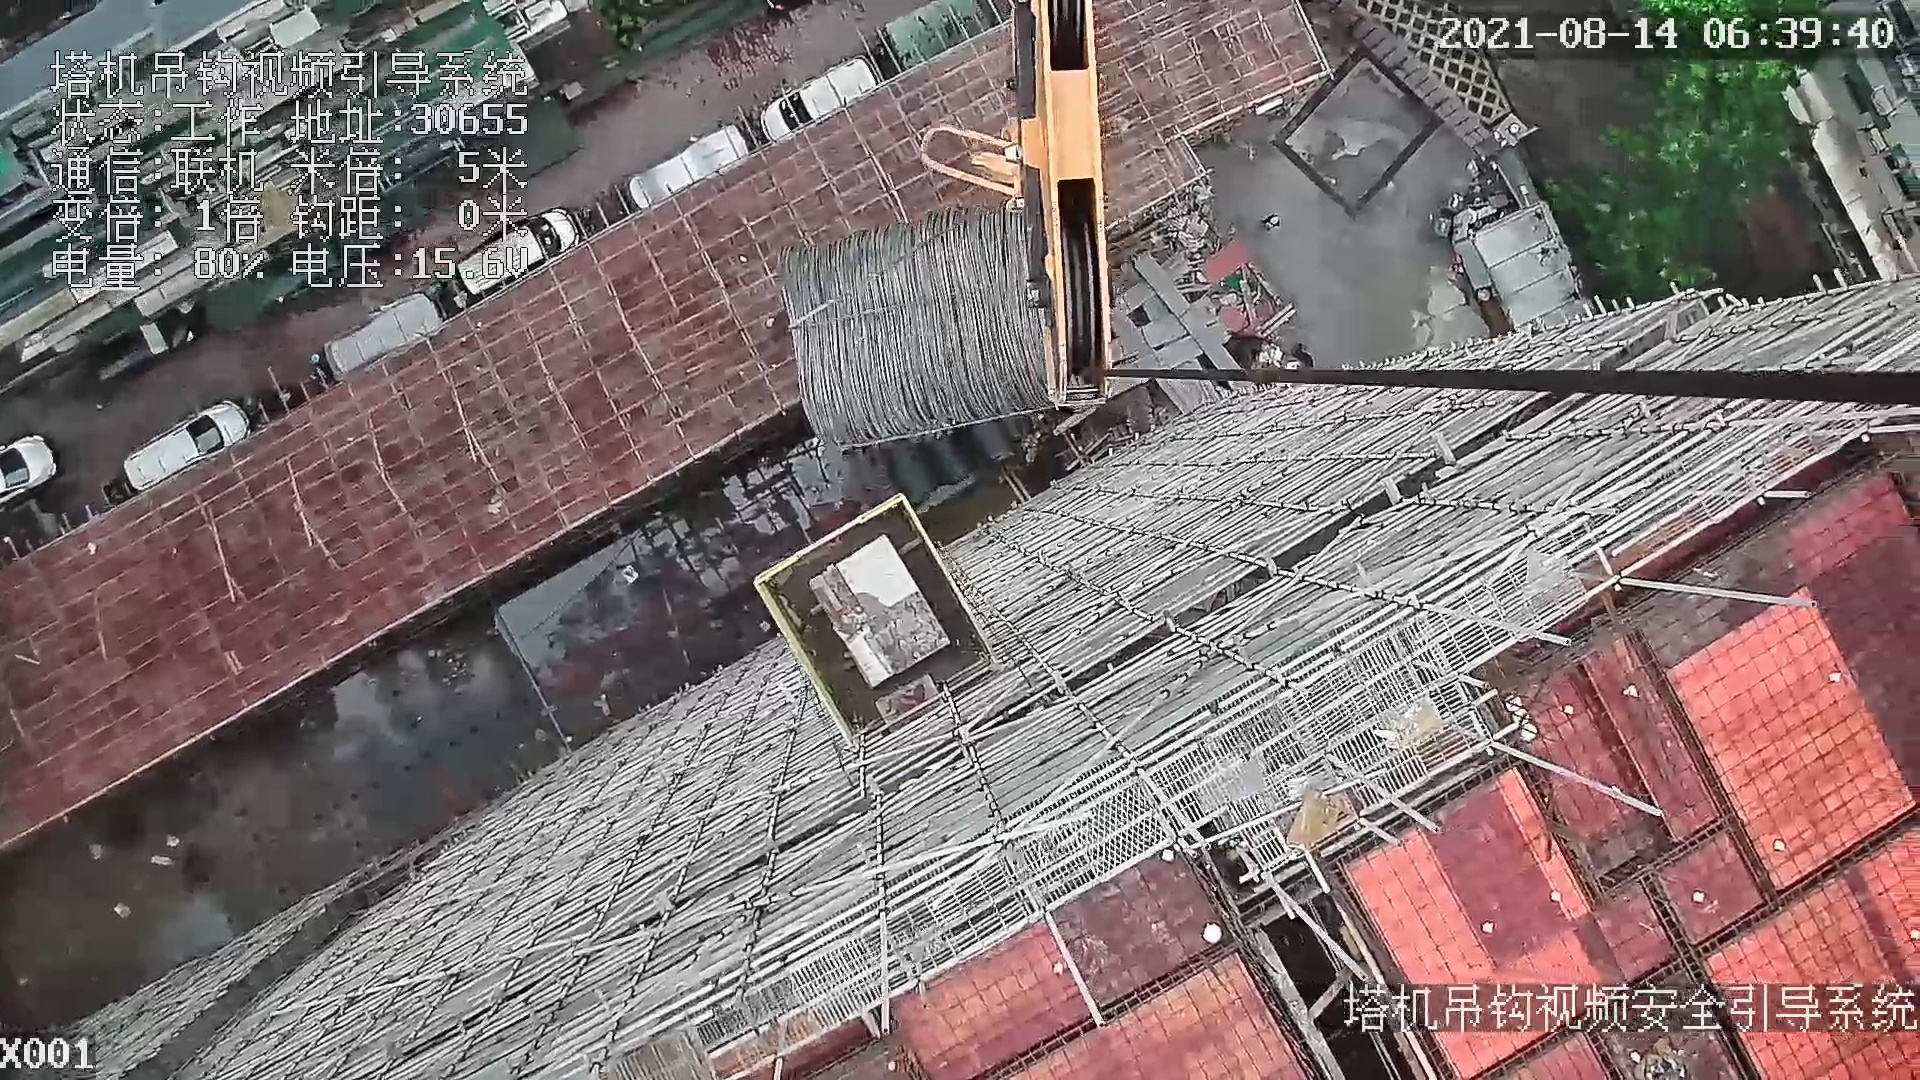hook: (894, 1, 1120, 407)
